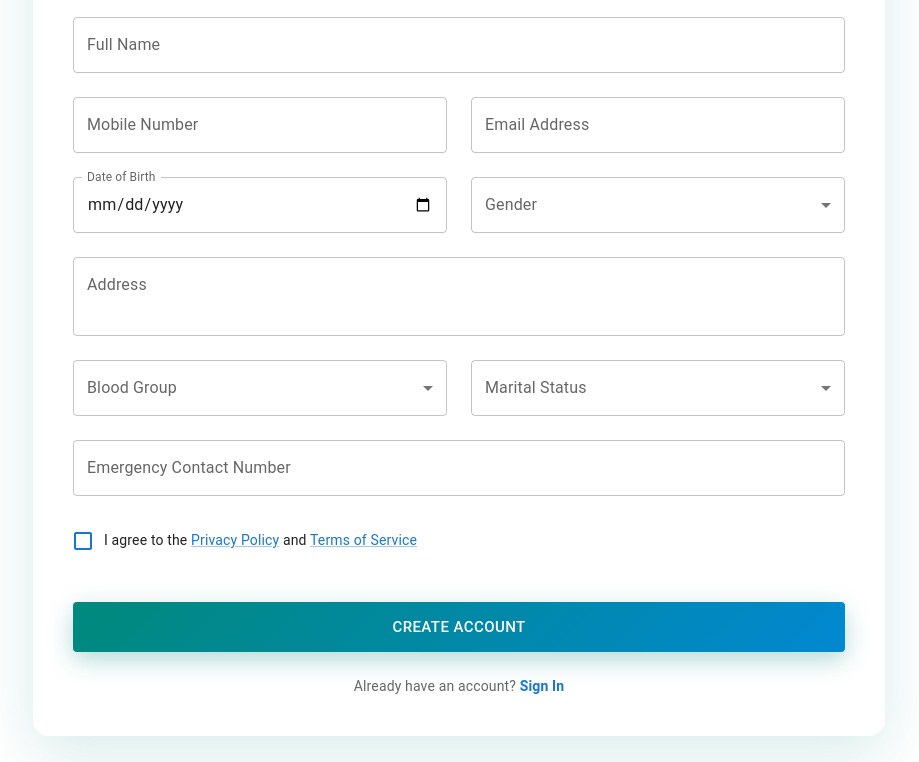
Test: RegistrationScreen Component › Emergency Contact Validation › shows error for empty emergency contact
(page scrolled)
Click the button "Create Account" at [459, 627], box [73, 602, 845, 652]
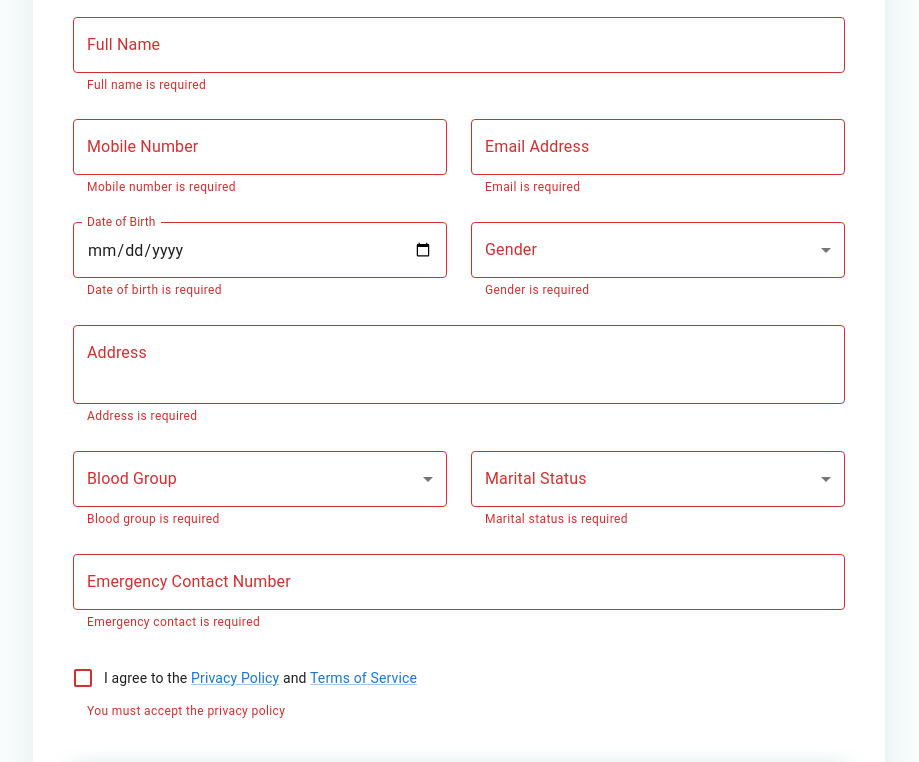
Expected: the text "Emergency contact is required" is shown, [87, 615, 260, 629]
